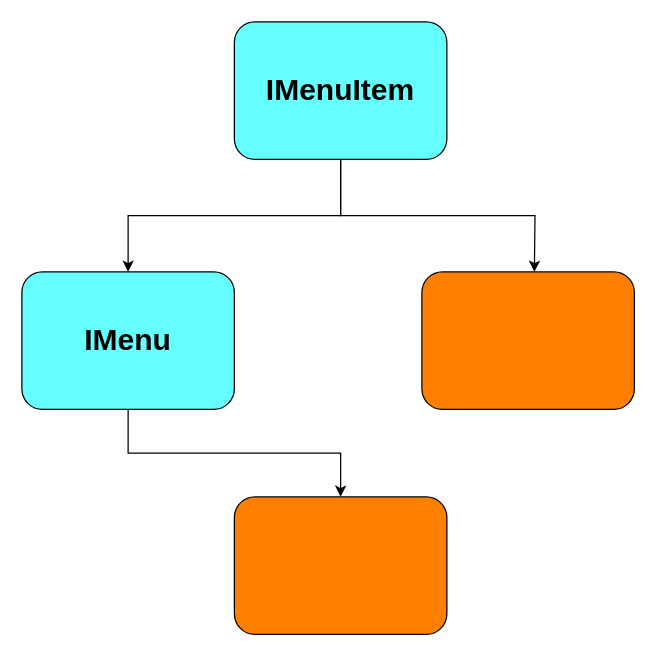
Some shapes in this 656 by 656 pixel diagram are drawn without their labels. The shapes that lost their labels are listed below. From the top down, each one's centre as x and y in pixels, then its label:
point 527,340: MenuItem
point 340,565: Menu
